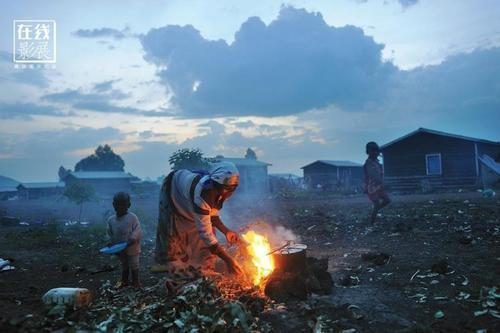fire: (232, 219, 282, 289)
